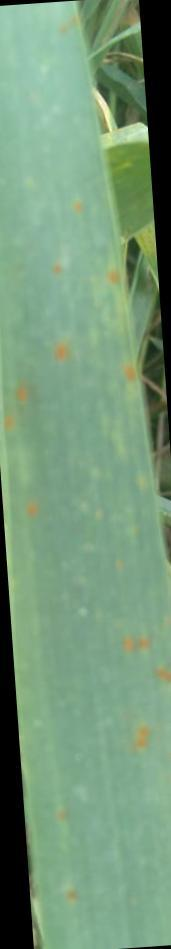Wheat: (24, 158, 121, 373), (100, 622, 171, 760)
